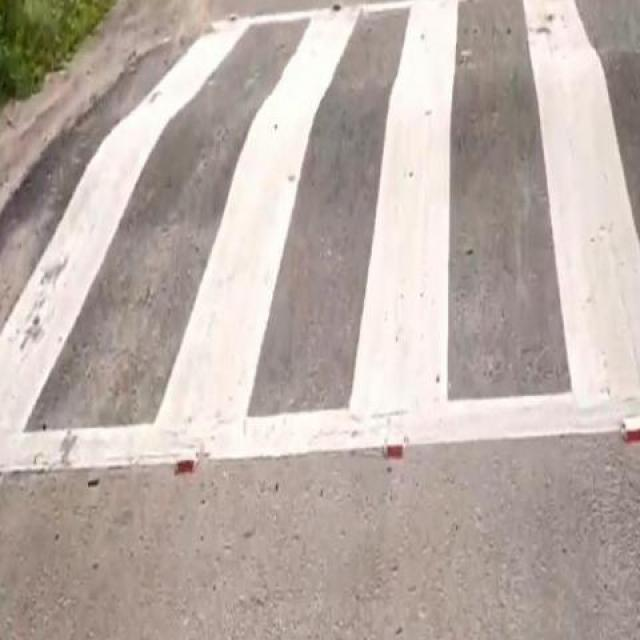Speed Bump: (0, 0, 639, 480)
